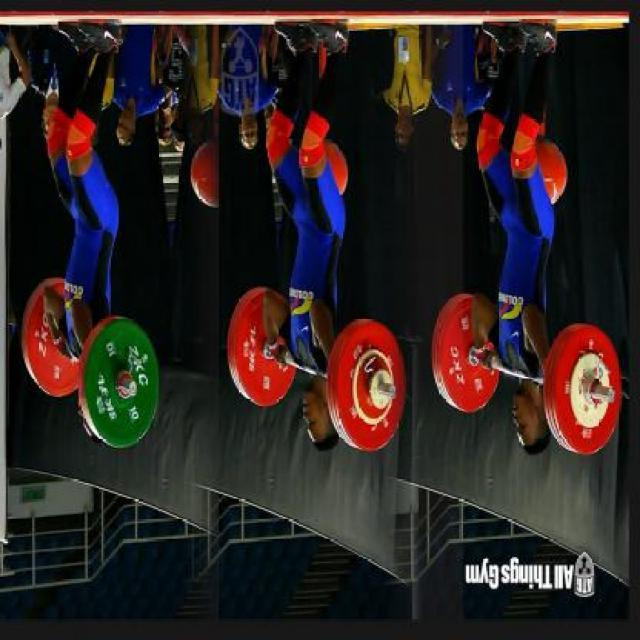Barbell: (387, 381, 398, 402), (127, 378, 138, 398), (606, 386, 616, 406)
